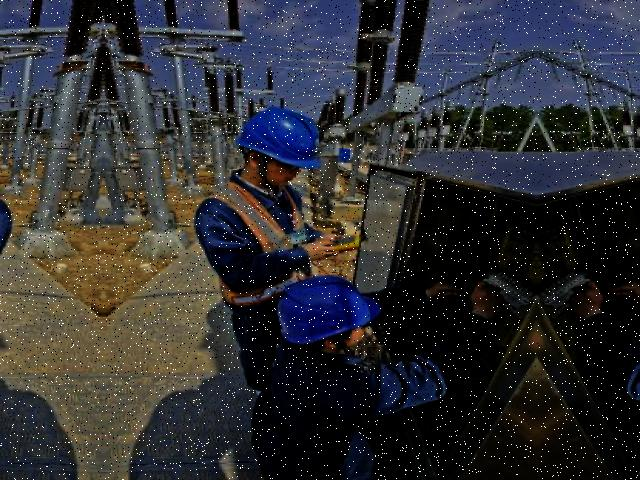Helmet: (267, 270, 383, 350), (222, 100, 336, 177)
